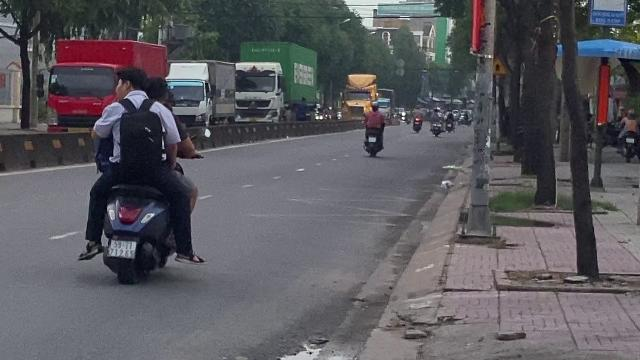licenseplate: (108, 240, 136, 258)
motorcyclist: (78, 59, 202, 286)
nohelmet: (112, 65, 148, 99), (146, 75, 170, 105)
